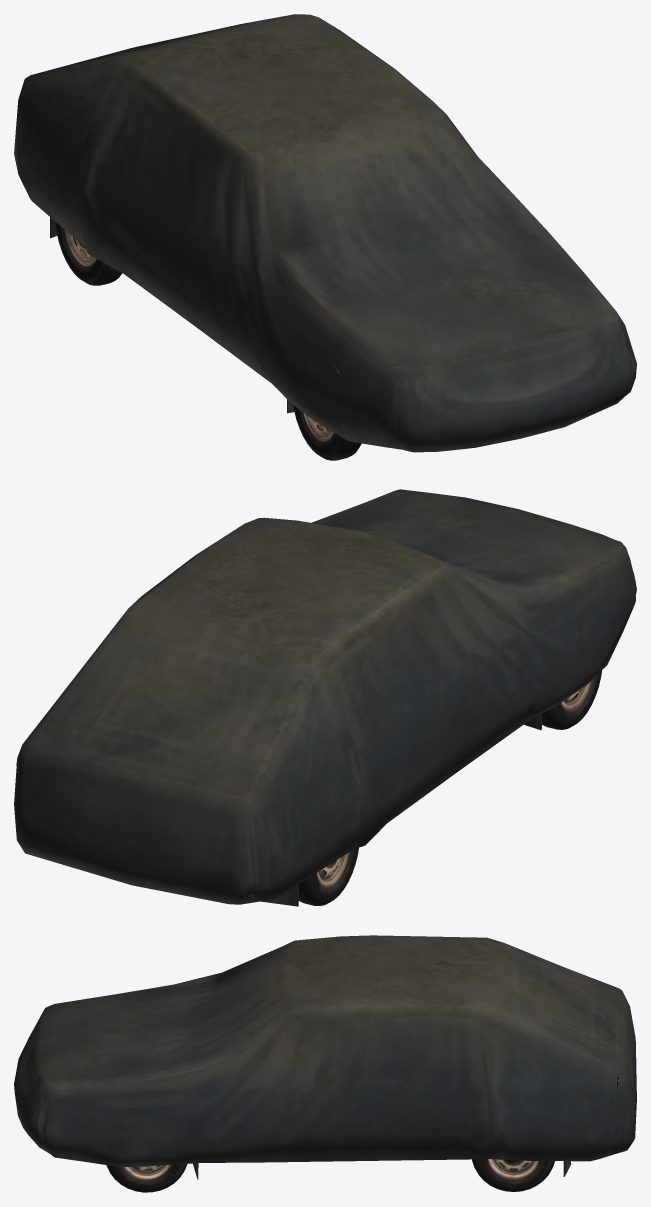
Rendered from covered_car.glb.
The picture shows the model from 3 angles, top to bottom: view 1: azimuth 30°, elevation 25°; view 2: azimuth 150°, elevation 25°; view 3: azimuth 270°, elevation 25°; orthographic projection. The views are drawn at different scales.
Visible parts, largest first — view 1: covered_car, covered_car_wheel_03, covered_car_wheel_02; view 2: covered_car, covered_car_wheel_03, covered_car_wheel_02; view 3: covered_car, covered_car_wheel_04, covered_car_wheel_01.
Boxes of the visible parts, x1,y1,x2,y2 form: covered_car: (14, 14, 636, 452); covered_car_wheel_03: (55, 222, 122, 285); covered_car_wheel_02: (293, 405, 361, 460); covered_car: (14, 489, 636, 906); covered_car_wheel_03: (298, 847, 358, 905); covered_car_wheel_02: (542, 670, 601, 729); covered_car: (14, 935, 636, 1179); covered_car_wheel_04: (472, 1159, 554, 1191); covered_car_wheel_01: (106, 1163, 187, 1192).
Bounding box in the file's own units: 1.79 × 1.41 × 4.38.
1 material, 1 textured.
